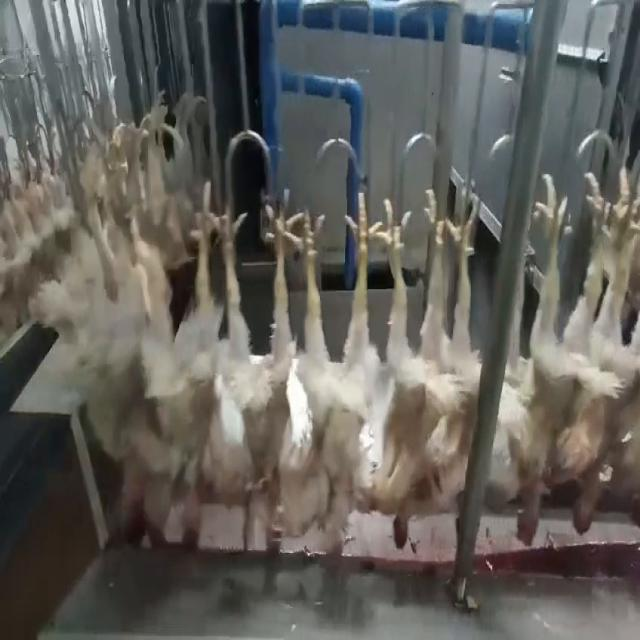chicken: (290, 190, 385, 572), (195, 198, 295, 549), (378, 189, 472, 533), (110, 213, 201, 540), (564, 160, 639, 538), (497, 172, 568, 552)
